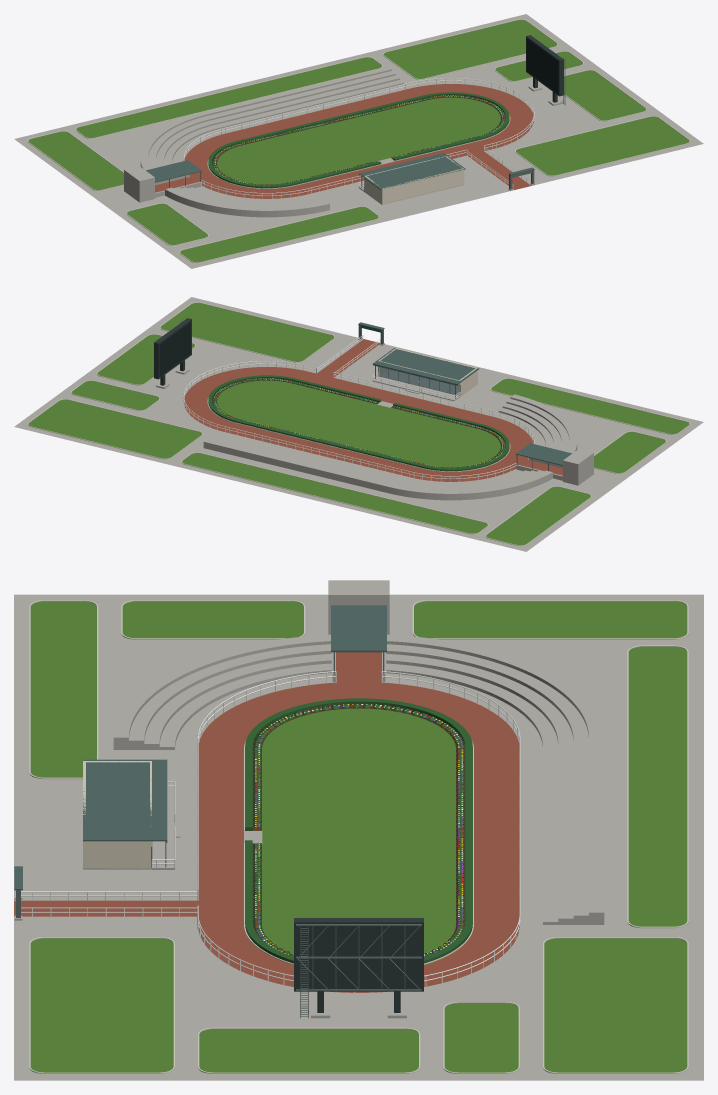
Rendered from paddock.glb.
The picture shows the model from 3 angles, top to bottom: view 1: azimuth 30°, elevation 25°; view 2: azimuth 150°, elevation 25°; view 3: azimuth 270°, elevation 25°; orthographic projection. The views are drawn at different scales.
Visible parts, largest first — view 1: Paddock_PaddockLawn, Paddock_Concrete, Paddock_Track, Paddock_Curb, Paddock_Hedge, Paddock_Roof, Paddock_RailWhite, Paddock_BuildingWall, Paddock_PaddockTrack, PaddockBoardScreen, Paddock_BoardFrame, Paddock_FlowerBed; view 2: Paddock_PaddockLawn, Paddock_Concrete, Paddock_Track, Paddock_Curb, Paddock_Hedge, Paddock_Roof, Paddock_RailWhite, Paddock_PaddockTrack, PaddockBoardScreen, Paddock_Glass, Paddock_BoardFrame, Paddock_BuildingWall (+2 smaller); view 3: Paddock_PaddockLawn, Paddock_Concrete, Paddock_Track, Paddock_Roof, Paddock_Hedge, Paddock_BoardFrame, Paddock_Curb, Paddock_RailWhite, Paddock_PaddockTrack, Paddock_RoofSteel, Paddock_BuildingWall, Paddock_Soil (+1 smaller).
Part boxes in pixels (<box>): Paddock_PaddockLawn: <box>28,20,689,262</box>; Paddock_Concrete: <box>14,14,703,268</box>; Paddock_Track: <box>184,84,533,198</box>; Paddock_Curb: <box>27,19,690,263</box>; Paddock_Hedge: <box>208,92,509,188</box>; Paddock_Roof: <box>145,153,534,189</box>; Paddock_RailWhite: <box>183,78,534,198</box>; Paddock_BuildingWall: <box>364,156,464,204</box>; Paddock_PaddockTrack: <box>155,151,530,192</box>; PaddockBoardScreen: <box>527,39,558,93</box>; Paddock_BoardFrame: <box>526,35,563,102</box>; Paddock_FlowerBed: <box>213,95,504,185</box>; Paddock_PaddockLawn: <box>28,303,689,545</box>; Paddock_Concrete: <box>14,297,703,551</box>; Paddock_Track: <box>184,367,533,481</box>; Paddock_Curb: <box>27,302,690,546</box>; Paddock_Hedge: <box>208,375,509,471</box>; Paddock_Roof: <box>358,322,572,465</box>; Paddock_RailWhite: <box>183,335,534,481</box>; Paddock_PaddockTrack: <box>317,339,562,475</box>; PaddockBoardScreen: <box>159,322,190,376</box>; Paddock_Glass: <box>379,367,458,394</box>; Paddock_BoardFrame: <box>154,318,191,385</box>; Paddock_BuildingWall: <box>378,348,477,396</box>; Paddock_PaddockLawn: <box>30,601,687,1072</box>; Paddock_Concrete: <box>14,580,703,1080</box>; Paddock_Track: <box>198,682,519,992</box>; Paddock_Roof: <box>14,605,386,890</box>; Paddock_Hedge: <box>245,698,472,963</box>; Paddock_BoardFrame: <box>294,918,423,1012</box>; Paddock_Curb: <box>29,600,688,1073</box>; Paddock_RailWhite: <box>21,671,520,993</box>; Paddock_PaddockTrack: <box>14,652,381,916</box>; Paddock_RoofSteel: <box>16,652,421,1018</box>; Paddock_BuildingWall: <box>83,761,151,869</box>; Paddock_Soil: <box>252,704,465,955</box>.
Bounding box in the file's own units: 150 × 13.5 × 90.
